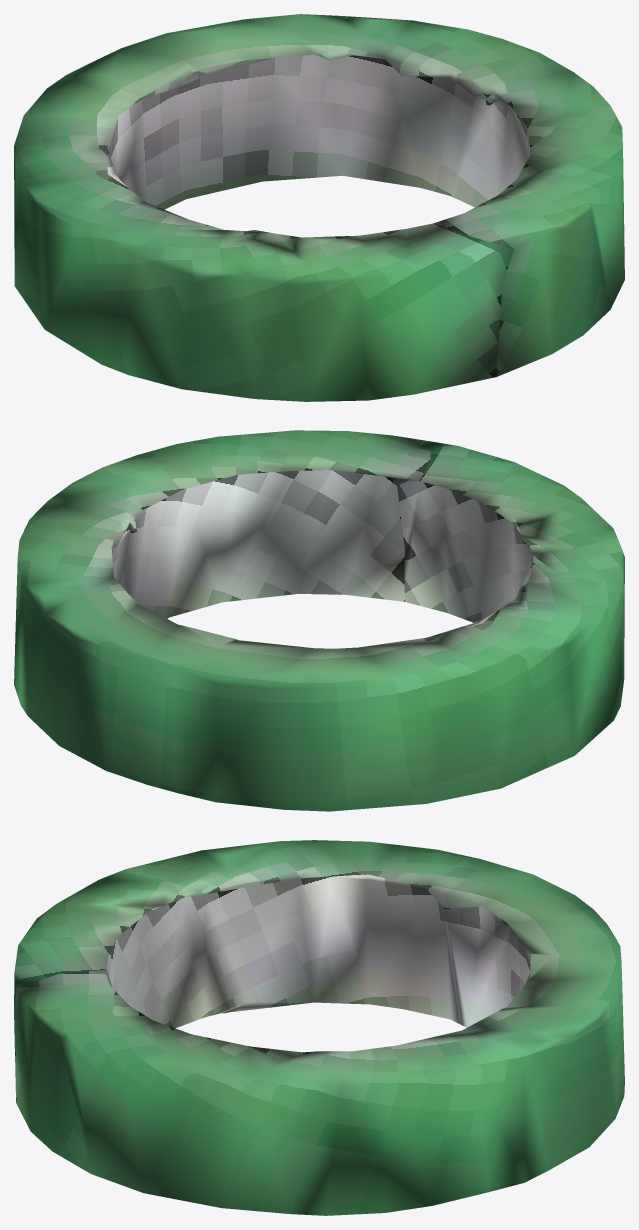
File: 3M_Vinyl_Tape_Green_1_x_36_yd-low.glb
3 renders of one model, top to bottom at view 1: azimuth 30°, elevation 25°; view 2: azimuth 150°, elevation 25°; view 3: azimuth 270°, elevation 25°, orthographic.
Parts seen in each view (by area): view 1: 3M_Vinyl_Tape_Green_1_x_36_yd; view 2: 3M_Vinyl_Tape_Green_1_x_36_yd; view 3: 3M_Vinyl_Tape_Green_1_x_36_yd.
Part boxes in pixels (<box>): 3M_Vinyl_Tape_Green_1_x_36_yd: <box>14,14,624,401</box>; 3M_Vinyl_Tape_Green_1_x_36_yd: <box>14,430,624,811</box>; 3M_Vinyl_Tape_Green_1_x_36_yd: <box>14,840,624,1215</box>.
Size of the model in its own units: 0.1102 by 0.0263 by 0.1099.
Materials: 1 (1 with a texture image).
